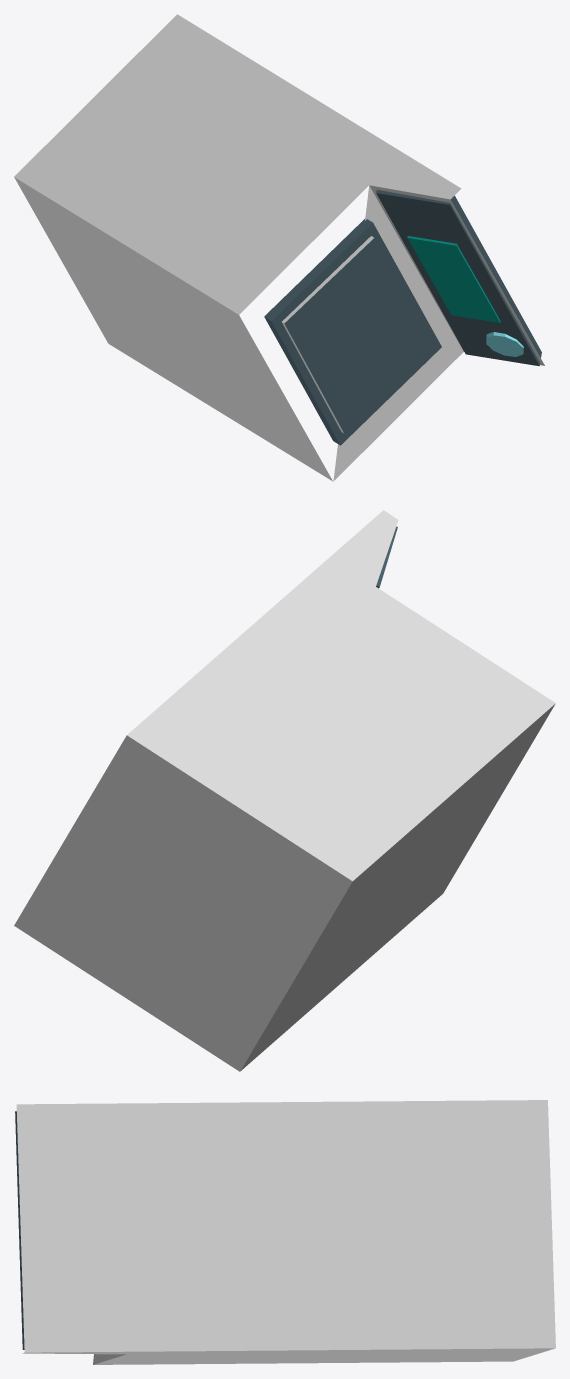
The model's file is top-loader.glb.
3 views of the same model, one above another, from view 1: azimuth 30°, elevation 25°; view 2: azimuth 150°, elevation 25°; view 3: azimuth 270°, elevation 25° (orthographic). The views are drawn at different scales.
Parts seen in each view (by area): view 1: mesh1745559080, mesh1745559080_1, mesh1745559080_2, mesh1745559080_3; view 2: mesh1745559080; view 3: mesh1745559080, mesh1745559080_1.
Boxes of the visible parts, x1=… form: mesh1745559080: x1=14, y1=14, x2=544, y2=481; mesh1745559080_1: x1=264, y1=189, x2=541, y2=445; mesh1745559080_2: x1=407, y1=236, x2=500, y2=322; mesh1745559080_3: x1=486, y1=332, x2=523, y2=356; mesh1745559080: x1=14, y1=510, x2=555, y2=1071; mesh1745559080: x1=16, y1=1100, x2=555, y2=1364; mesh1745559080_1: x1=15, y1=1111, x2=24, y2=1349.
Size of the model in its own units: 0.24 by 0.2269 by 0.3558.
